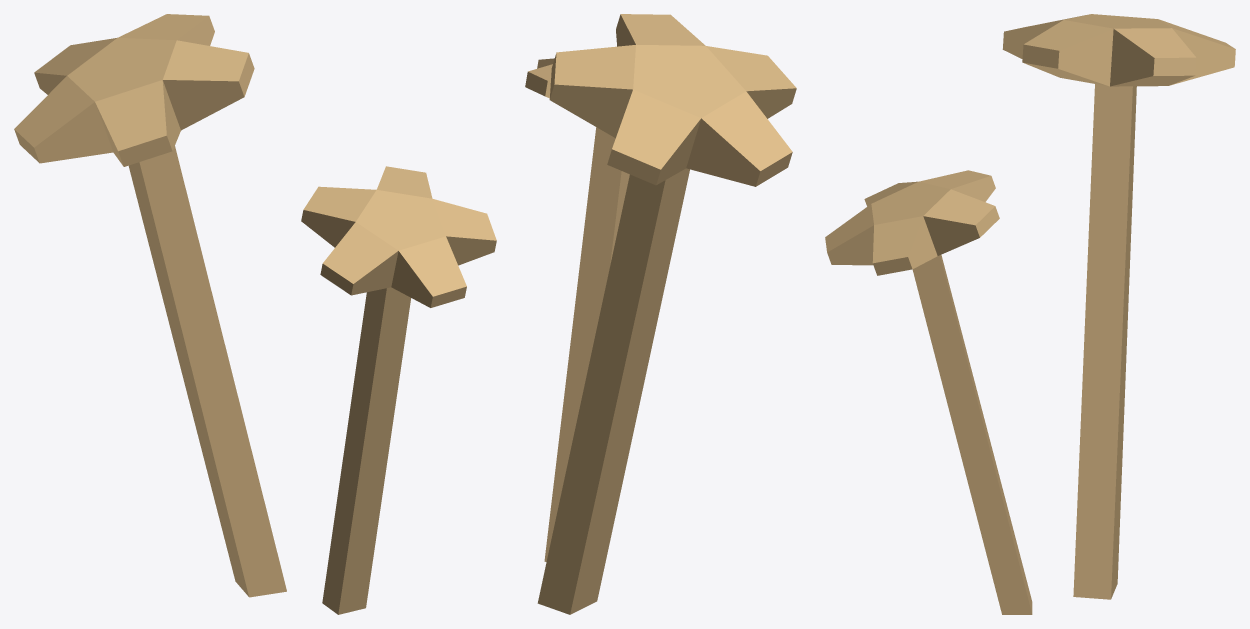
The model's file is Mega_Asset_s_Pack_Cube_375.FBX.
The picture shows the model from 3 angles, left to right: view 1: azimuth 30°, elevation 25°; view 2: azimuth 150°, elevation 25°; view 3: azimuth 270°, elevation 25°; orthographic projection. The views are drawn at different scales.
Parts seen in each view (by area): view 1: Mega_Asset_s_Pack_Cube_375; view 2: Mega_Asset_s_Pack_Cube_375; view 3: Mega_Asset_s_Pack_Cube_375.
Part boxes in pixels (x1=…): Mega_Asset_s_Pack_Cube_375: x1=14, y1=14, x2=496, y2=614; Mega_Asset_s_Pack_Cube_375: x1=525, y1=14, x2=796, y2=614; Mega_Asset_s_Pack_Cube_375: x1=825, y1=14, x2=1235, y2=614.
Size of what is drawn, in the model's own units: 41.2 by 44.54 by 63.08.
